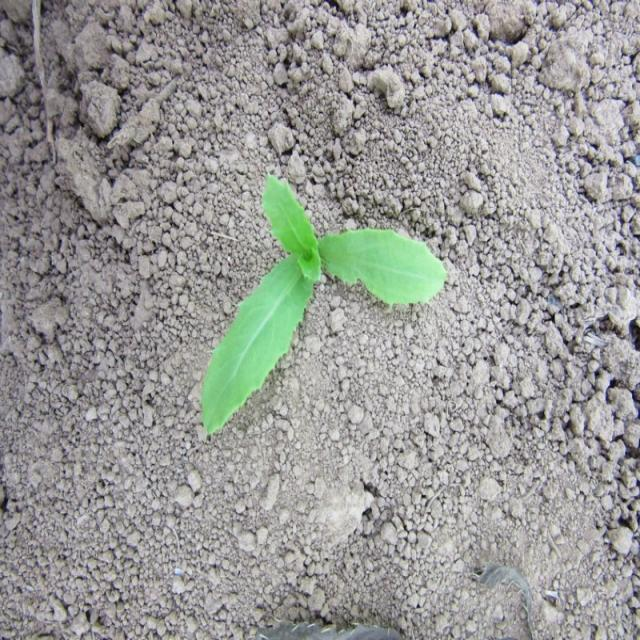field_thistle: (186, 170, 464, 440)
